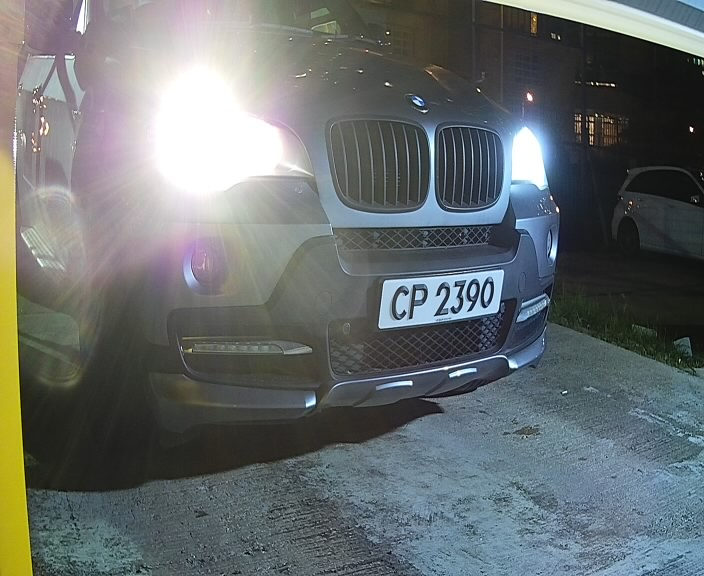Car: (28, 2, 565, 465)
License Plate: (371, 262, 511, 338)
